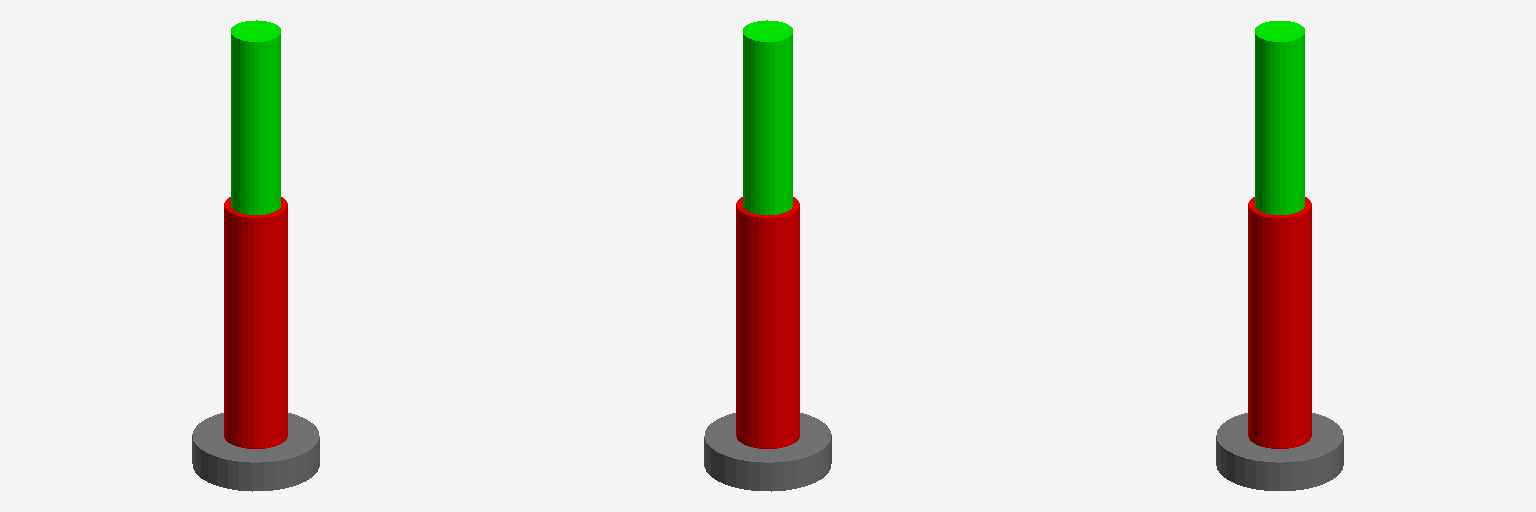
robot.urdf — robot_with_transmissions:
<?xml version="1.0"?>
<!-- Robot with transmission elements for testing transmission parsing -->
<robot name="robot_with_transmissions">
  <link name="base_link">
    <visual>
      <geometry>
        <cylinder radius="0.1" length="0.05"/>
      </geometry>
      <material name="gray">
        <color rgba="0.5 0.5 0.5 1"/>
      </material>
    </visual>
    <inertial>
      <mass value="2.0"/>
      <inertia ixx="0.01" ixy="0" ixz="0" iyy="0.01" iyz="0" izz="0.01"/>
    </inertial>
  </link>

  <link name="link1">
    <visual>
      <geometry>
        <cylinder radius="0.05" length="0.4"/>
      </geometry>
      <origin xyz="0 0 0.2" rpy="0 0 0"/>
      <material name="red">
        <color rgba="1 0 0 1"/>
      </material>
    </visual>
    <inertial>
      <mass value="1.0"/>
      <origin xyz="0 0 0.2" rpy="0 0 0"/>
      <inertia ixx="0.02" ixy="0" ixz="0" iyy="0.02" iyz="0" izz="0.005"/>
    </inertial>
  </link>

  <link name="link2">
    <visual>
      <geometry>
        <cylinder radius="0.04" length="0.3"/>
      </geometry>
      <origin xyz="0 0 0.15" rpy="0 0 0"/>
      <material name="green">
        <color rgba="0 1 0 1"/>
      </material>
    </visual>
    <inertial>
      <mass value="0.5"/>
      <origin xyz="0 0 0.15" rpy="0 0 0"/>
      <inertia ixx="0.01" ixy="0" ixz="0" iyy="0.01" iyz="0" izz="0.002"/>
    </inertial>
  </link>

  <joint name="joint1" type="revolute">
    <parent link="base_link"/>
    <child link="link1"/>
    <origin xyz="0 0 0.025" rpy="0 0 0"/>
    <axis xyz="0 0 1"/>
    <limit lower="-3.14159" upper="3.14159" effort="100" velocity="2"/>
  </joint>

  <joint name="joint2" type="revolute">
    <parent link="link1"/>
    <child link="link2"/>
    <origin xyz="0 0 0.4" rpy="0 0 0"/>
    <axis xyz="0 1 0"/>
    <limit lower="-2.0" upper="2.0" effort="50" velocity="2"/>
  </joint>

  <!-- Transmission for joint1 -->
  <transmission name="trans1">
    <type>transmission_interface/SimpleTransmission</type>
    <joint name="joint1">
      <hardwareInterface>hardware_interface/EffortJointInterface</hardwareInterface>
    </joint>
    <actuator name="motor1">
      <hardwareInterface>hardware_interface/EffortJointInterface</hardwareInterface>
      <mechanicalReduction>50</mechanicalReduction>
    </actuator>
  </transmission>

  <!-- Transmission for joint2 -->
  <transmission name="trans2">
    <type>transmission_interface/SimpleTransmission</type>
    <joint name="joint2">
      <hardwareInterface>hardware_interface/EffortJointInterface</hardwareInterface>
    </joint>
    <actuator name="motor2">
      <hardwareInterface>hardware_interface/EffortJointInterface</hardwareInterface>
      <mechanicalReduction>100</mechanicalReduction>
    </actuator>
  </transmission>
</robot>

--- What the picture shows (computed from the rendered views, not written in the file) ---
3 views of the same robot in one strip: view 1: azimuth 30°, elevation 25°; view 2: azimuth 150°, elevation 25°; view 3: azimuth 270°, elevation 25° (orthographic).
Model robot_with_transmissions with 3 links and 2 joints (2 revolute), rooted at base_link, posed every joint at zero.
Visible links, largest first — view 1: link1, link2, base_link; view 2: link1, link2, base_link; view 3: link1, link2, base_link.
Link boxes in pixels (bbox=[...]): link1: bbox=[224, 197, 287, 448]; link2: bbox=[231, 20, 280, 214]; base_link: bbox=[192, 413, 319, 491]; link1: bbox=[736, 197, 799, 448]; link2: bbox=[743, 20, 792, 214]; base_link: bbox=[704, 413, 831, 491]; link1: bbox=[1248, 197, 1311, 448]; link2: bbox=[1255, 21, 1304, 214]; base_link: bbox=[1216, 413, 1343, 490].
Size in the robot's own frame: 0.2 by 0.2 by 0.75 metres.
Geometry: primitives only (box / cylinder / sphere), no mesh files.